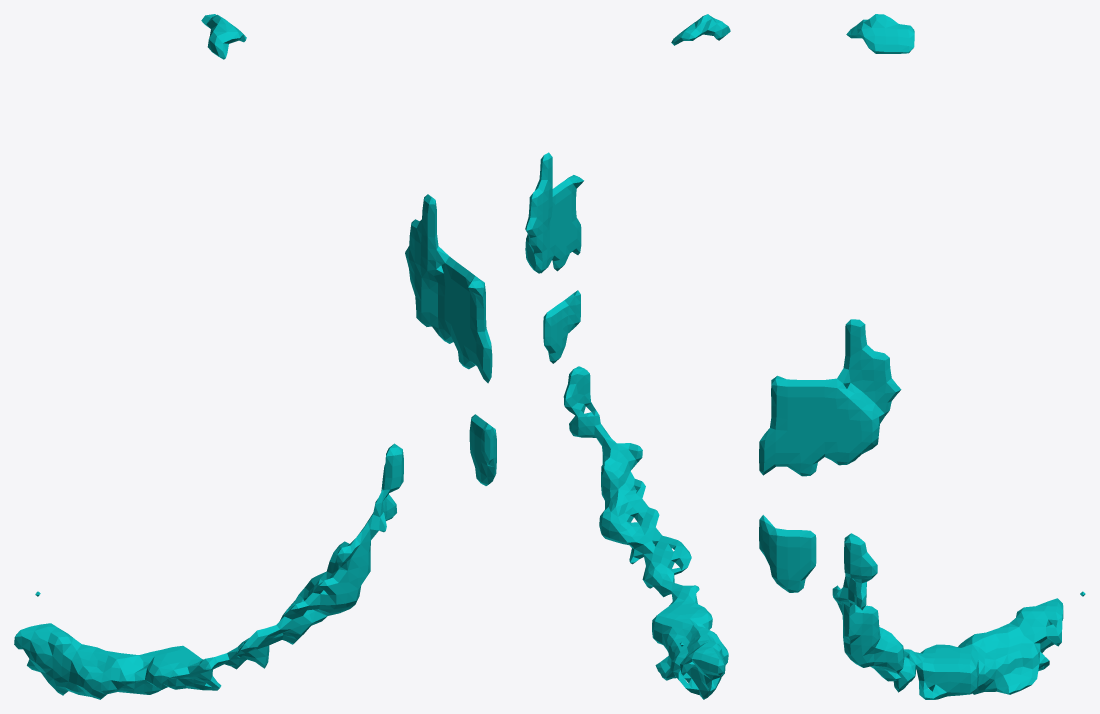
File: aseg_031_Left-choroid-plexus.glb
3 renders of one model, left to right at view 1: azimuth 30°, elevation 25°; view 2: azimuth 150°, elevation 25°; view 3: azimuth 270°, elevation 25°, orthographic. The views are drawn at different scales.
Bounding box in the file's own units: 30.8 × 62.55 × 26.58.
